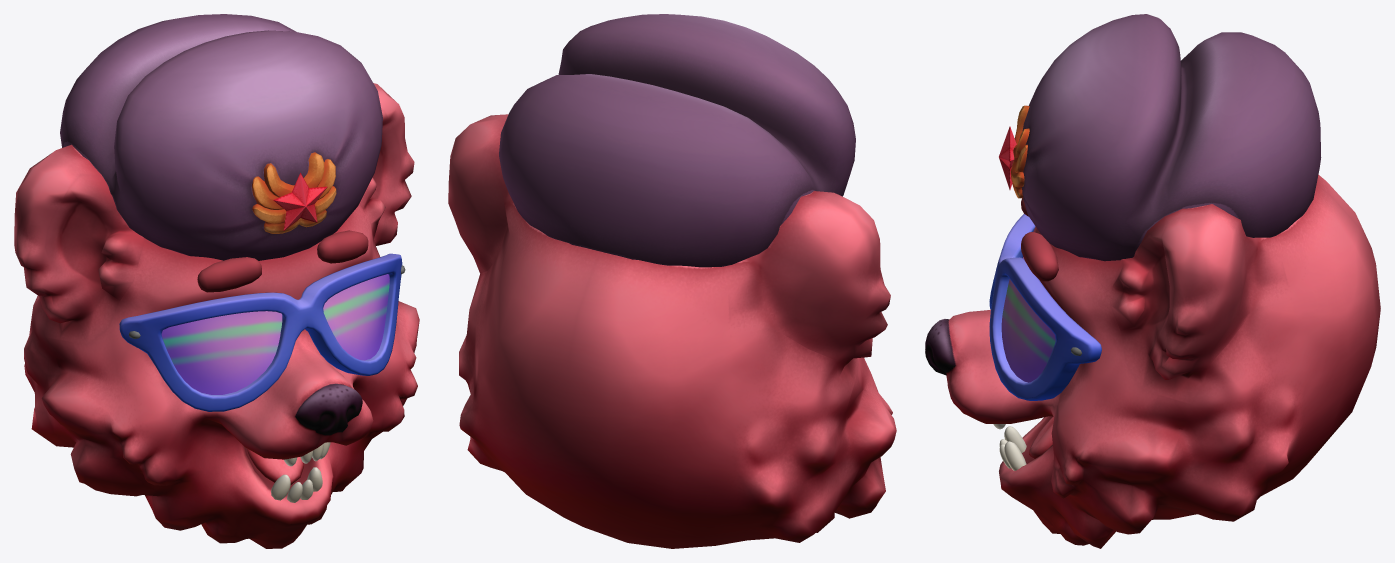
File: bear.glb
The picture shows the model from 3 angles, left to right: view 1: azimuth 30°, elevation 25°; view 2: azimuth 150°, elevation 25°; view 3: azimuth 270°, elevation 25°; orthographic projection. The views are drawn at different scales.
Parts seen in each view (by area): view 1: Head_Material #86_0, Glasses _Material #86_0, Right Eyebrow, Left Eyebrow; view 2: Head_Material #86_0; view 3: Head_Material #86_0, Glasses _Material #86_0, Left Eyebrow.
Boxes of the visible parts, x1,y1,x2,y2 form: Head_Material #86_0: [14, 14, 419, 548]; Glasses _Material #86_0: [119, 253, 405, 411]; Right Eyebrow: [197, 257, 261, 292]; Left Eyebrow: [317, 230, 368, 263]; Head_Material #86_0: [448, 14, 896, 548]; Head_Material #86_0: [925, 14, 1380, 548]; Glasses _Material #86_0: [989, 214, 1101, 400]; Left Eyebrow: [1021, 232, 1058, 281].
Size of the model in its own units: 1.31 by 1.51 by 1.27.
2 materials, 2 textured.
